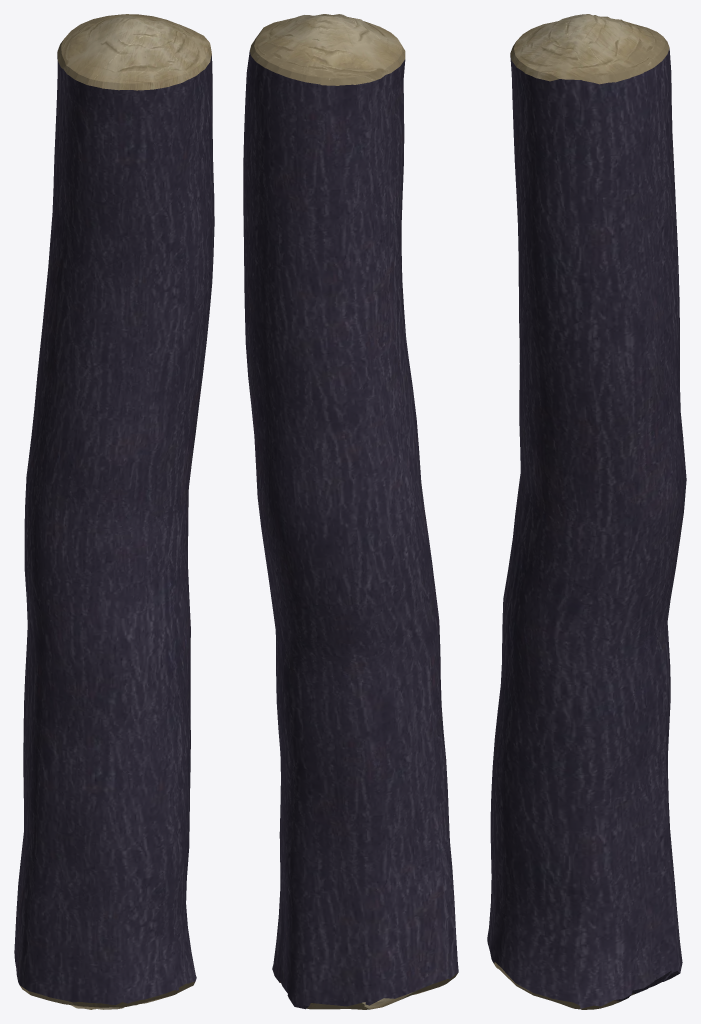
3 renders of one model, left to right at view 1: azimuth 30°, elevation 25°; view 2: azimuth 150°, elevation 25°; view 3: azimuth 270°, elevation 25°, orthographic.
Visible parts, largest first — view 1: SM_GF_Oak_Tree_01_half_bottom_LOD0; view 2: SM_GF_Oak_Tree_01_half_bottom_LOD0; view 3: SM_GF_Oak_Tree_01_half_bottom_LOD0.
Boxes of the visible parts, x1,y1,x2,y2 form: SM_GF_Oak_Tree_01_half_bottom_LOD0: [14, 14, 214, 1009]; SM_GF_Oak_Tree_01_half_bottom_LOD0: [243, 14, 458, 1009]; SM_GF_Oak_Tree_01_half_bottom_LOD0: [487, 14, 686, 1009].
Size of the model in its own units: 1.04 by 5.09 by 0.9292.
1 material, 1 textured.
